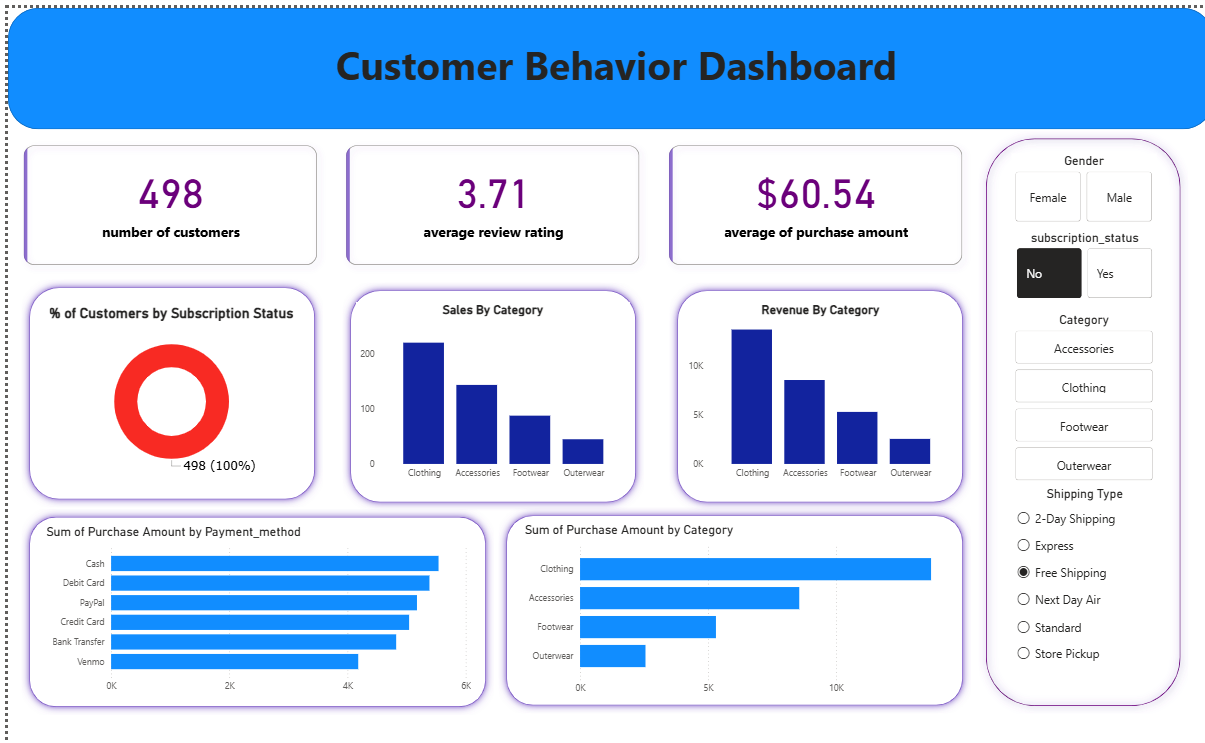

The dashboard page shown, as its layout file describes it:
{"tool":"powerbi","page":{"name":"Page 1","canvas":[1640,1000],"ordinal":0},"visuals":[{"type":"cardVisual","fields":{"Data":["public customers.number of customers","public customers.average review rating","public customers.average of purchase amount"]},"box":[0,165,1320,205],"z":0},{"type":"shape","box":[0,0,1640,165],"z":1000},{"type":"textbox","box":[78.2,34.8,1500.7,98.5],"z":2000},{"type":"shape","box":[17.5,370,410,310],"z":3000},{"type":"donutChart","title":"% of Customers by Subscription Status","fields":{"Category":["public customers.subscription_status"],"Y":["Count(public customers.customer_id)"]},"box":[50,405,342.5,240],"z":4000},{"type":"shape","box":[1320,167.5,285,792.5],"z":9000},{"type":"advancedSlicerVisual","title":"Gender","fields":{"Values":["public customers.gender"]},"box":[1365,197.5,197.5,97.5],"z":11000},{"type":"advancedSlicerVisual","title":"Category","fields":{"Values":["public customers.category"]},"box":[1365,415,197.5,235],"z":12000},{"type":"listSlicer","title":"Shipping Type","fields":{"Values":["public customers.shipping_type"]},"box":[1367.5,650,195,252.5],"z":13000},{"type":"shape","box":[17.5,682.5,642.5,280],"z":14000},{"type":"clusteredBarChart","title":"Sum of Purchase Amount by Payment_method","fields":{"Y":["Sum(public customers.purchase_amount)"],"Category":["public customers.payment_method"]},"box":[47.5,702.5,587.5,237.5],"z":15000},{"type":"shape","box":[667.5,680,642.5,280],"z":16000},{"type":"clusteredBarChart","title":"Sum of Purchase Amount by Category","fields":{"Category":["public customers.category"],"Y":["Sum(public customers.purchase_amount)"]},"box":[697.5,700,582.5,242.5],"z":17000},{"type":"shape","box":[455,372.5,410,310],"z":17001},{"type":"shape","box":[900,372.5,410,310],"z":17002},{"type":"lineClusteredColumnComboChart","title":"Revenue By Category","fields":{"Y":["Sum(public customers.purchase_amount)"],"Category":["public customers.category"]},"box":[920,400,370,250],"z":17003},{"type":"lineClusteredColumnComboChart","title":"Sales By Category","fields":{"Category":["public customers.category"],"Y":["CountNonNull(public customers.customer_id)"]},"box":[472.5,400,372.5,250],"z":17004},{"type":"advancedSlicerVisual","fields":{"Values":["public customers.subscription_status"]},"box":[1367.5,302.5,195,97.5],"z":17005}]}

Visuals, with their boxes in screenshot pixels (x1, y1, x2, y2), scaled from the page's 1640x1000 canvas onto the 1205x743 screenshot:
cardVisual - public customers.number of customers x public customers.average review rating: <box>0,123,970,275</box>
shape: <box>0,0,1204,123</box>
textbox: <box>57,26,1160,99</box>
shape: <box>13,275,314,505</box>
"% of Customers by Subscription Status" donutChart: <box>37,301,288,479</box>
shape: <box>970,124,1179,713</box>
"Gender" advancedSlicerVisual: <box>1003,147,1148,219</box>
"Category" advancedSlicerVisual: <box>1003,308,1148,483</box>
"Shipping Type" listSlicer: <box>1005,483,1148,671</box>
shape: <box>13,507,485,715</box>
"Sum of Purchase Amount by Payment_method" clusteredBarChart: <box>35,522,467,698</box>
shape: <box>490,505,963,713</box>
"Sum of Purchase Amount by Category" clusteredBarChart: <box>512,520,940,700</box>
shape: <box>334,277,636,507</box>
shape: <box>661,277,963,507</box>
"Revenue By Category" lineClusteredColumnComboChart: <box>676,297,948,483</box>
"Sales By Category" lineClusteredColumnComboChart: <box>347,297,621,483</box>
advancedSlicerVisual - public customers.subscription_status: <box>1005,225,1148,297</box>
